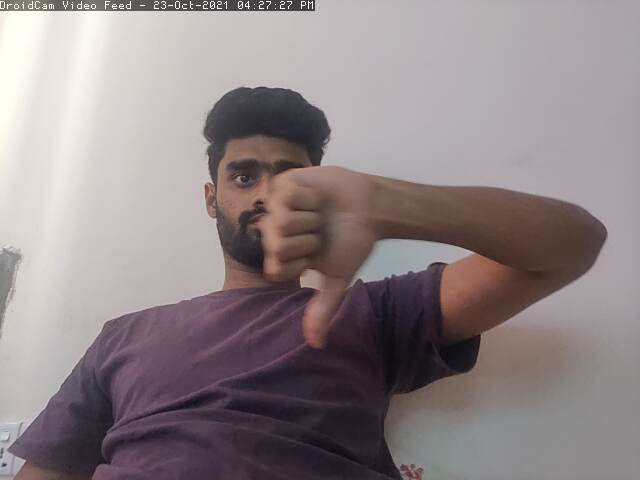ThumbsDown: (264, 159, 377, 347)
